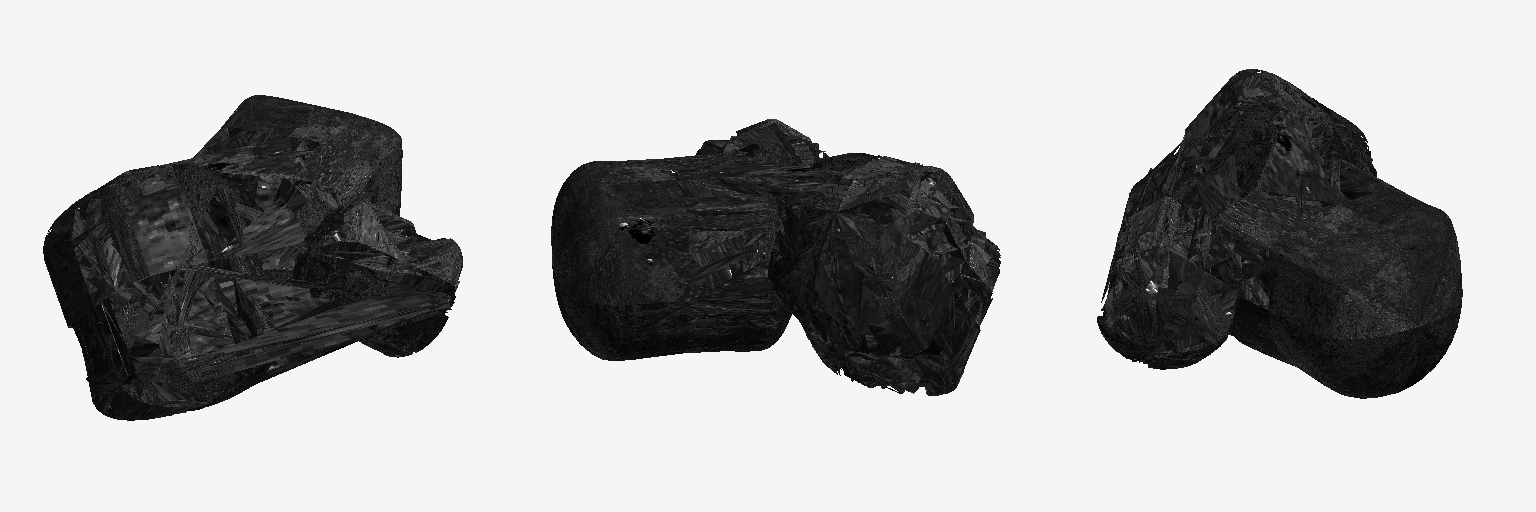
The picture shows the model from 3 angles: view 1: azimuth 30°, elevation 25°; view 2: azimuth 150°, elevation 25°; view 3: azimuth 270°, elevation 25°; orthographic projection.
Parts seen in each view (by area): view 1: object_2, object_1, object_3; view 2: object_1, object_2, object_3; view 3: object_1, object_3, object_2.
Part boxes in pixels (left/top/right/bottom): object_2: left=43, top=164, right=454, bottom=420; object_1: left=152, top=95, right=402, bottom=278; object_3: left=293, top=201, right=462, bottom=357; object_1: left=551, top=151, right=852, bottom=360; object_2: left=768, top=153, right=1000, bottom=395; object_3: left=695, top=119, right=829, bottom=177; object_1: left=1185, top=101, right=1462, bottom=398; object_3: left=1097, top=196, right=1241, bottom=369; object_2: left=1101, top=69, right=1376, bottom=347.
Size of the model in its own units: 0.4536 by 0.2902 by 0.4122.
Materials: 1 (1 with a texture image).